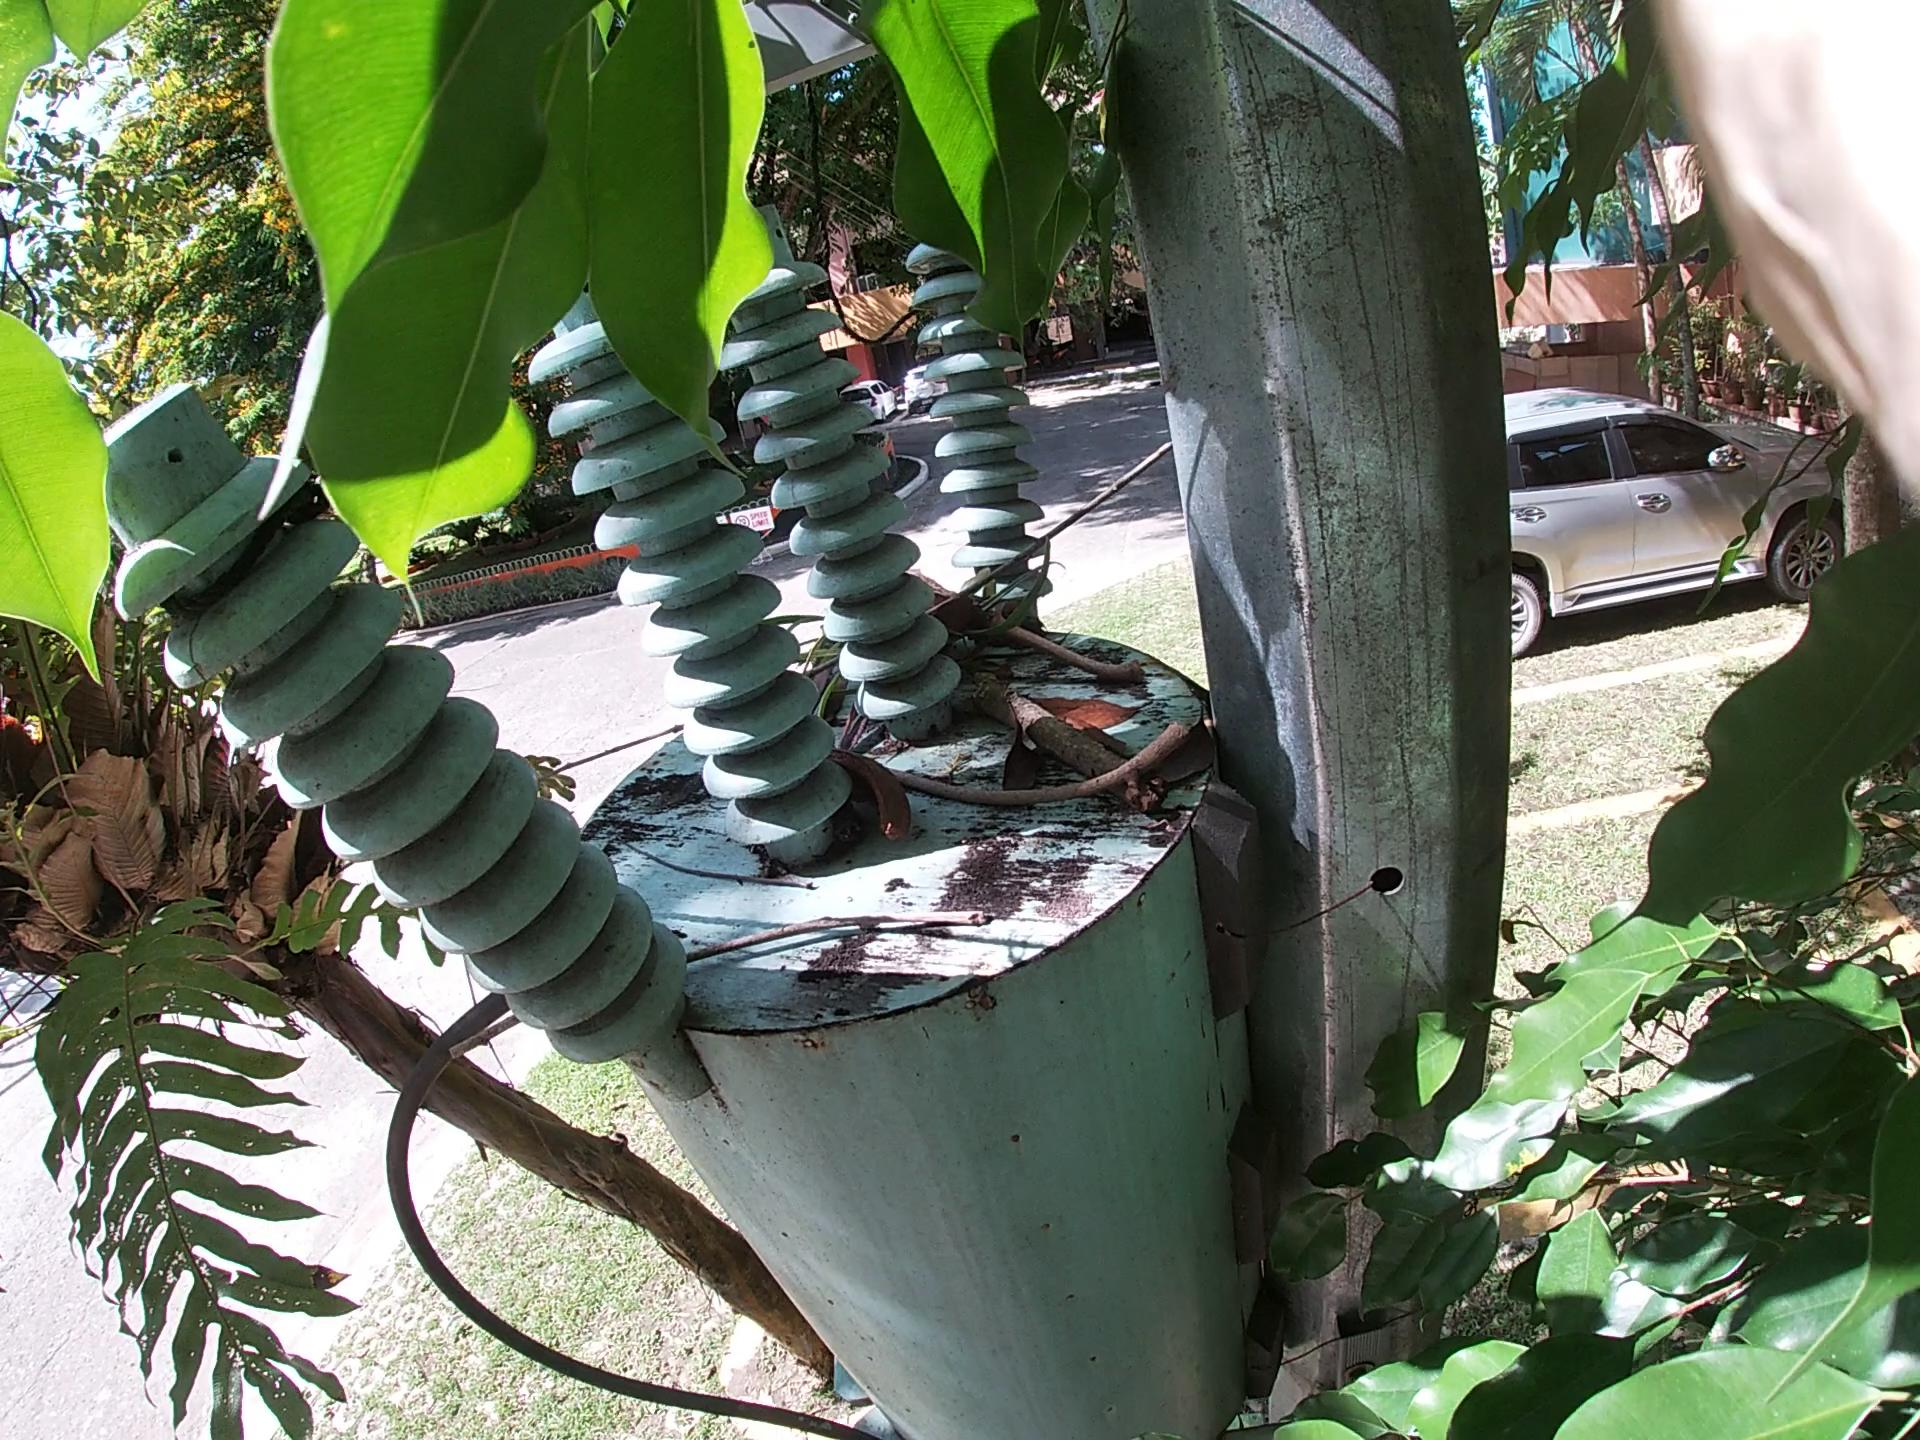branch with leaves: (910, 498, 1241, 873)
leaf: (1005, 653, 1169, 809)
tree branch: (897, 374, 1209, 693), (482, 902, 996, 1062), (754, 697, 1208, 861), (918, 513, 1160, 702)
